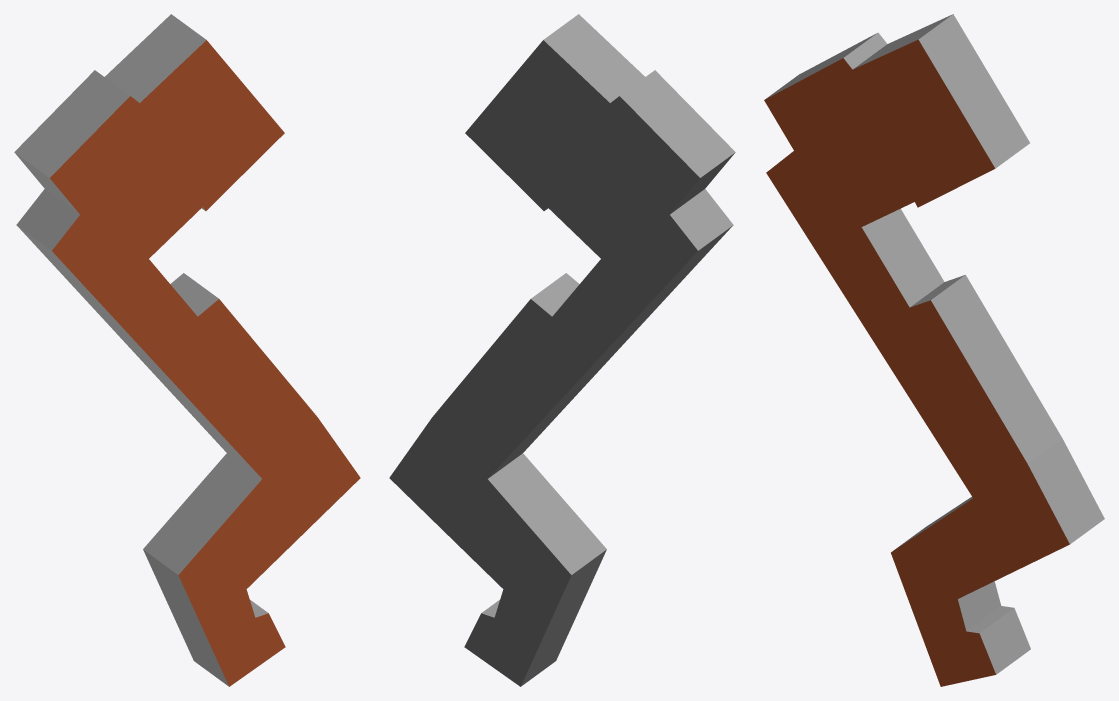
The model's file is construction_5862_assumed_A_Casa_h6m.obj.
3 views of the same model, side by side, from view 1: azimuth 30°, elevation 25°; view 2: azimuth 150°, elevation 25°; view 3: azimuth 330°, elevation 25° (orthographic).
Visible parts, largest first — view 1: construction_5862_assumed_A_Casa; view 2: construction_5862_assumed_A_Casa; view 3: construction_5862_assumed_A_Casa.
Part boxes in pixels (left/top/right/bottom): construction_5862_assumed_A_Casa: left=14, top=14, right=360, bottom=686; construction_5862_assumed_A_Casa: left=389, top=14, right=735, bottom=686; construction_5862_assumed_A_Casa: left=764, top=14, right=1104, bottom=686.
Bounding box in the file's own units: 30.36 × 60.87 × 6.
